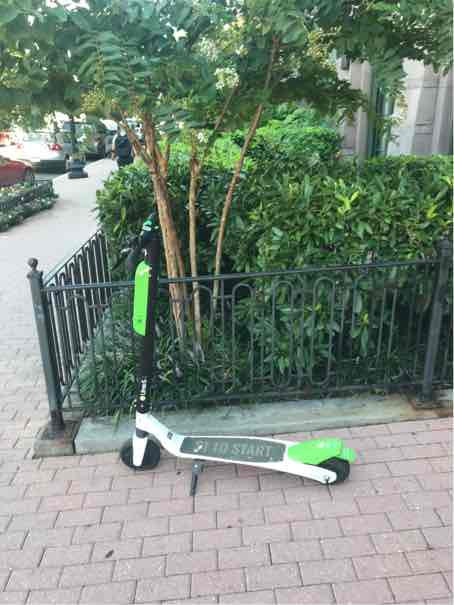scooter: (113, 211, 356, 484)
